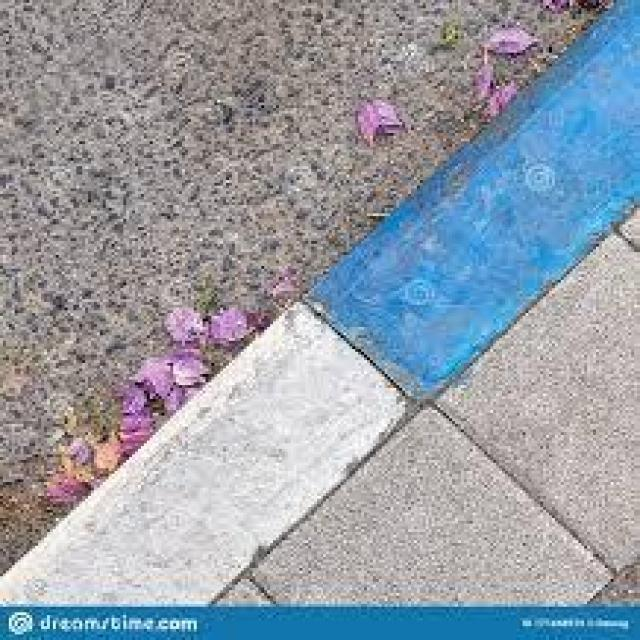curb: (1, 1, 640, 614)
